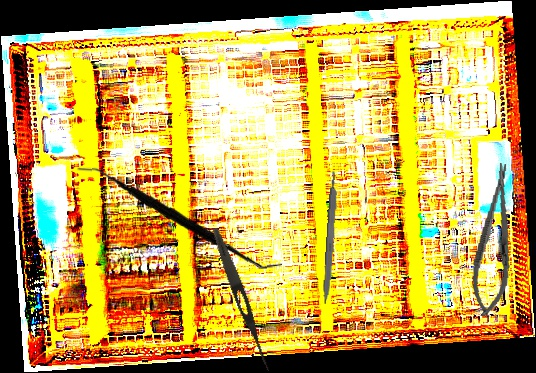Dressing Forceps: (208, 226, 276, 373)
Needle Holder: (466, 161, 524, 319)
Scalpel Handle: (321, 170, 341, 305)
Spatula Surgical: (77, 155, 282, 279)
